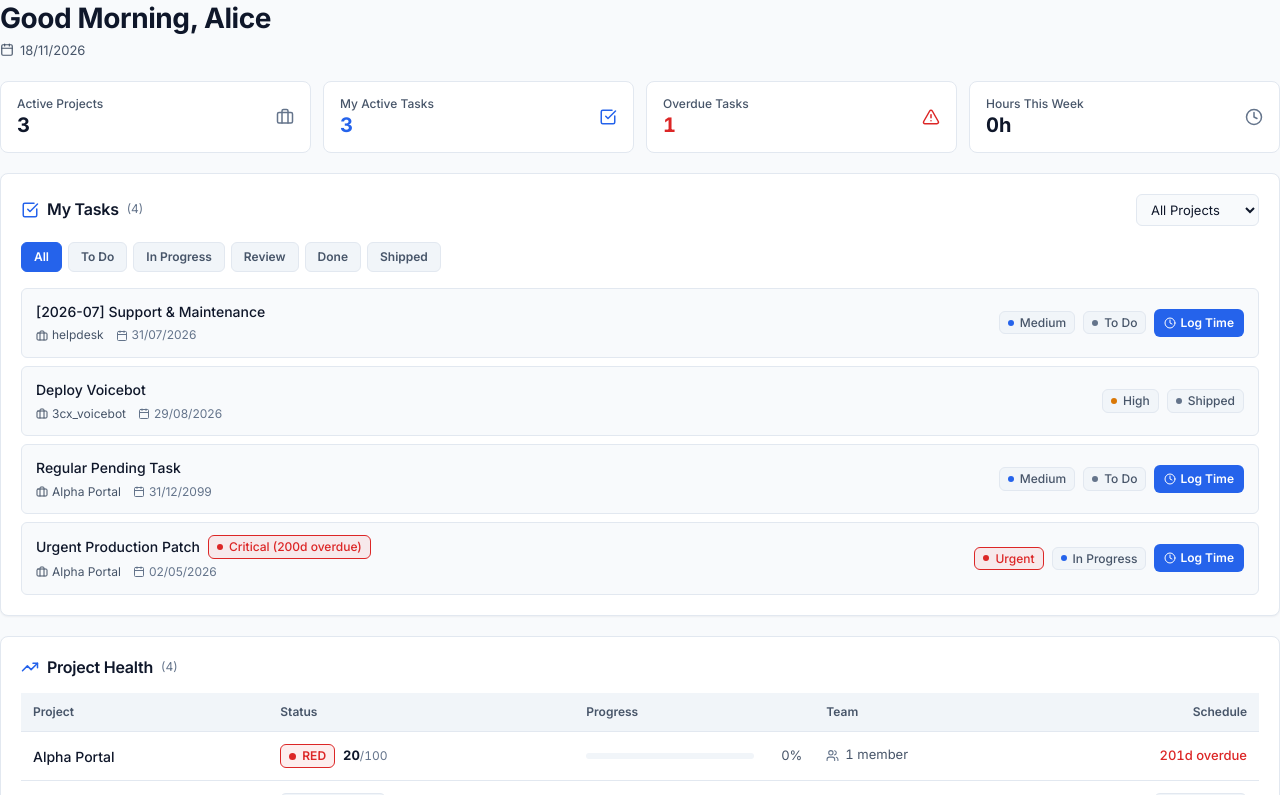
it: Dashboard › counts only currentUser overdue tasks (excluding other users, unassigned, support buckets, and custom done)
Click the text with test id "dashboard-overdue-total" at (669, 125), box 663,113 -> 676,137
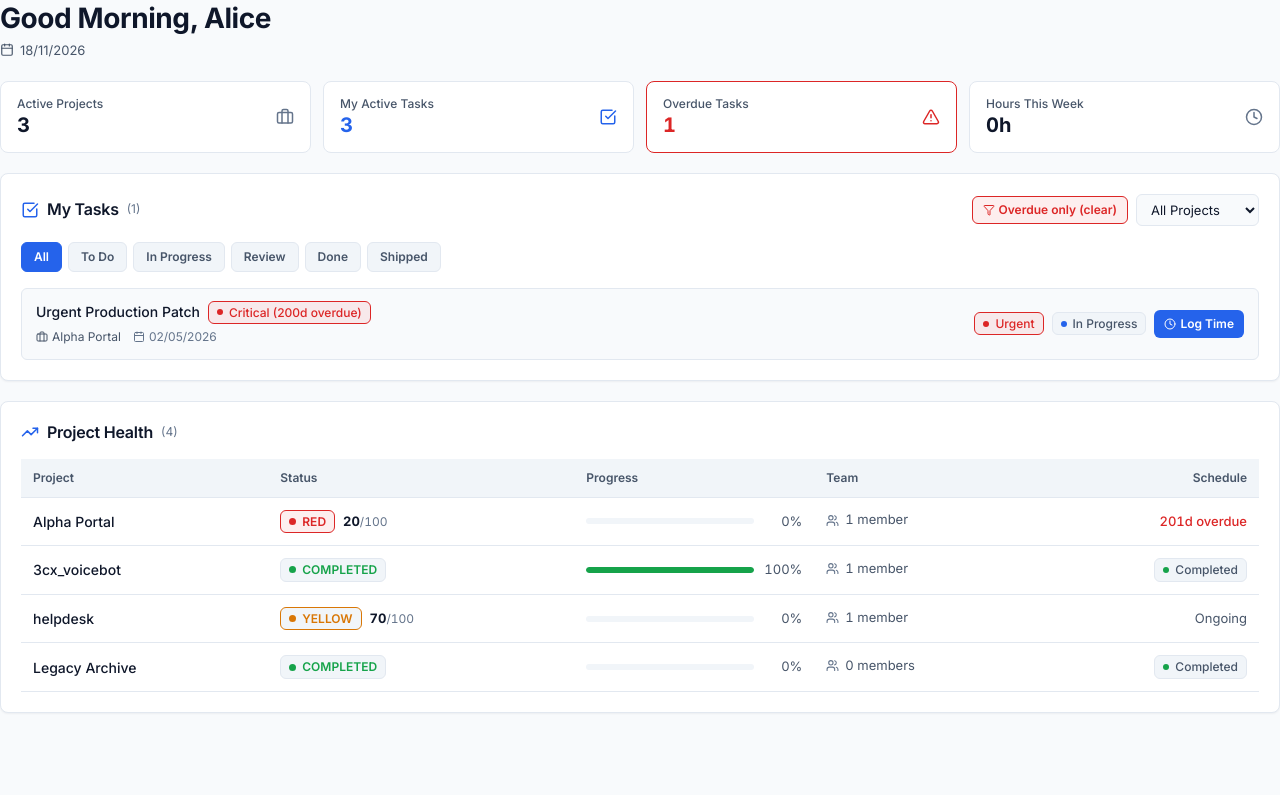
Check: the text "Urgent Production Patch" is shown, box 36,302 -> 200,323
Check: the text "Regular Pending Task" is gone
Check: the text "[2026-07] Support & Maintenance" is gone
